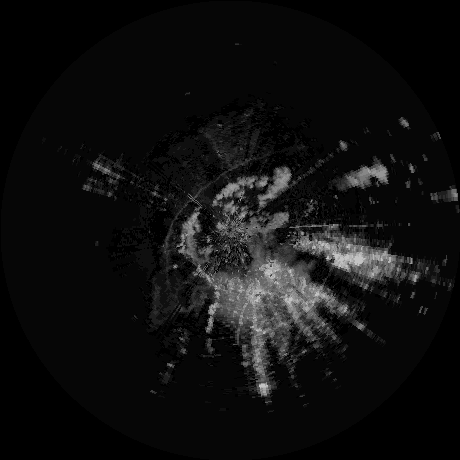frontgust: (164, 156, 254, 258)
